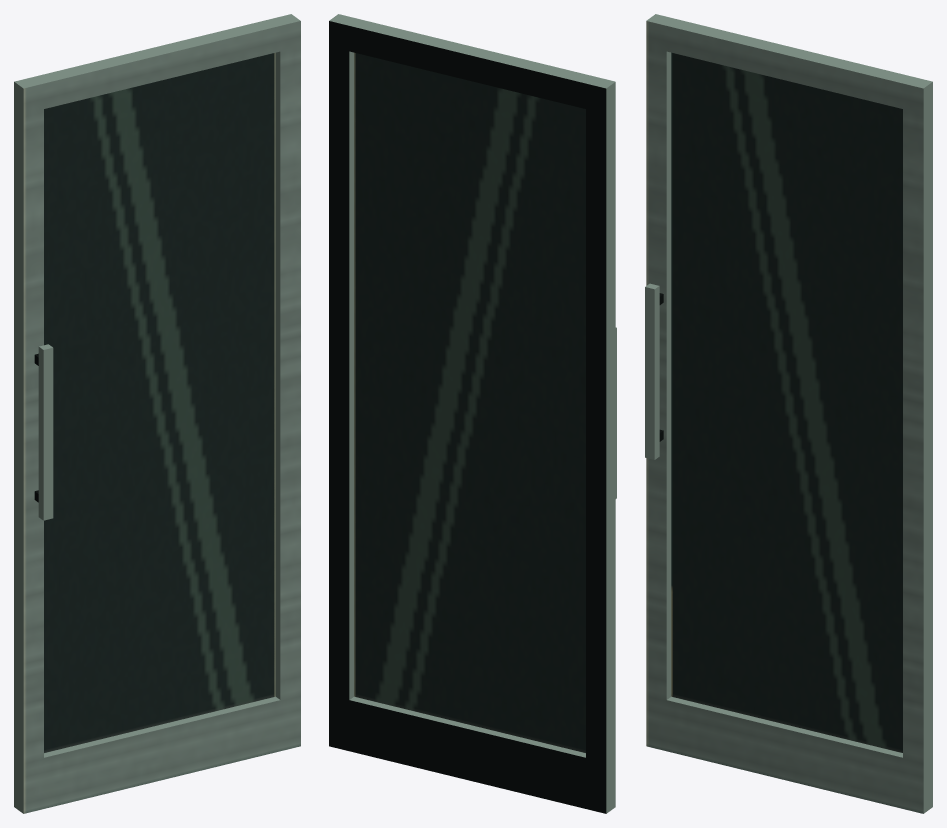
File: SM_LabCold_Door_R_68x4x170.fbx
3 renders of one model, left to right at view 1: azimuth 30°, elevation 25°; view 2: azimuth 150°, elevation 25°; view 3: azimuth 330°, elevation 25°, orthographic.
Parts seen in each view (by area): view 1: SM_LabCold_Door_R_68x4x170.001; view 2: SM_LabCold_Door_R_68x4x170.001; view 3: SM_LabCold_Door_R_68x4x170.001.
Boxes of the visible parts, x1,y1,x2,y2 form: SM_LabCold_Door_R_68x4x170.001: (14,14,300,813); SM_LabCold_Door_R_68x4x170.001: (329,14,616,813); SM_LabCold_Door_R_68x4x170.001: (645,14,932,813).
Bounding box in the file's own units: 0.68 × 1.7 × 0.085.
